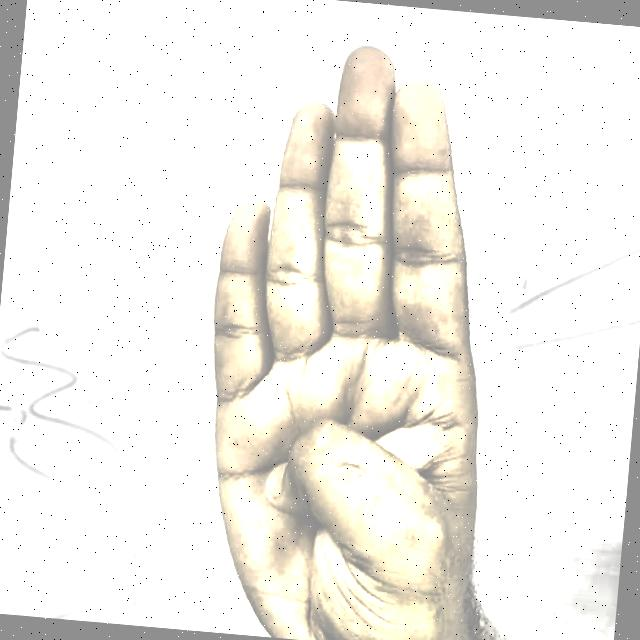Ba: (150, 12, 556, 640)
